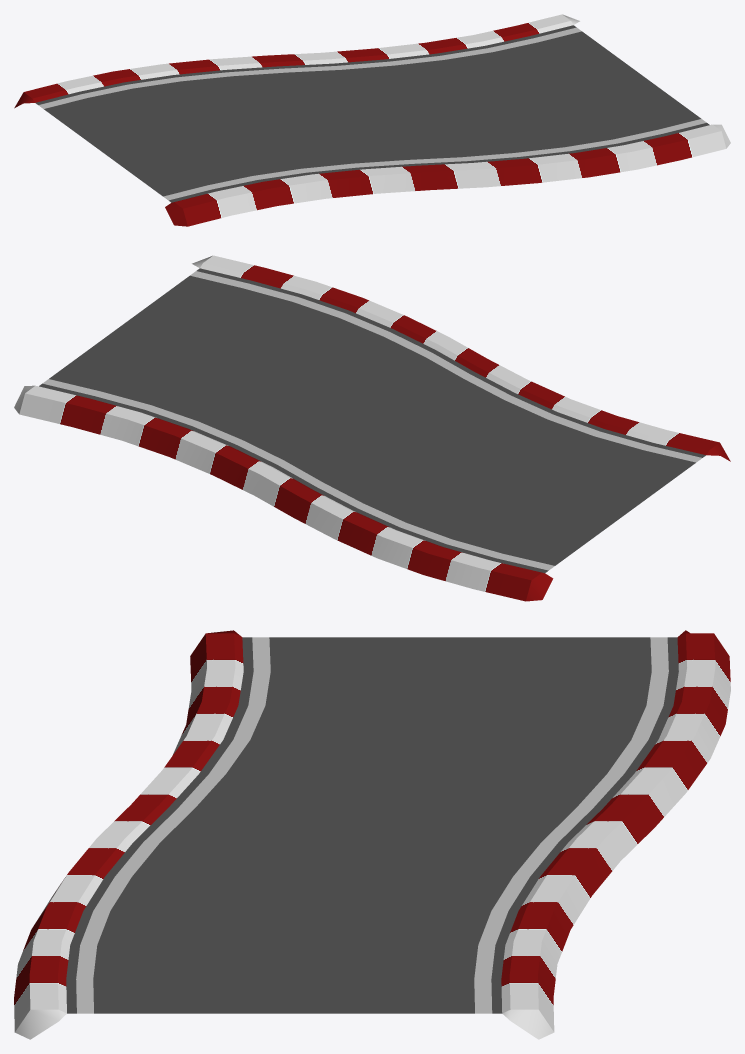
File: Track_Bend_Right.FBX
3 views of the same model, one above another, from view 1: azimuth 30°, elevation 25°; view 2: azimuth 150°, elevation 25°; view 3: azimuth 270°, elevation 25° (orthographic). The views are drawn at different scales.
Visible parts, largest first — view 1: Track_Bend_Right, Track_Bend_Right_Apex_Right, Track_Bend_Right_Apex_Left; view 2: Track_Bend_Right, Track_Bend_Right_Apex_Left, Track_Bend_Right_Apex_Right; view 3: Track_Bend_Right, Track_Bend_Right_Apex_Left, Track_Bend_Right_Apex_Right.
Part boxes in pixels (x1,y1,x2,y2): Track_Bend_Right: (35, 25, 709, 202); Track_Bend_Right_Apex_Right: (165, 124, 730, 226); Track_Bend_Right_Apex_Left: (14, 14, 579, 108); Track_Bend_Right: (39, 268, 705, 573); Track_Bend_Right_Apex_Left: (14, 385, 553, 601); Track_Bend_Right_Apex_Right: (192, 255, 730, 461); Track_Bend_Right: (66, 637, 678, 1013); Track_Bend_Right_Apex_Left: (501, 630, 730, 1039); Track_Bend_Right_Apex_Right: (14, 630, 243, 1039).
Size of the model in its own units: 1766 by 48.14 by 1369.
1 material, 1 textured.
